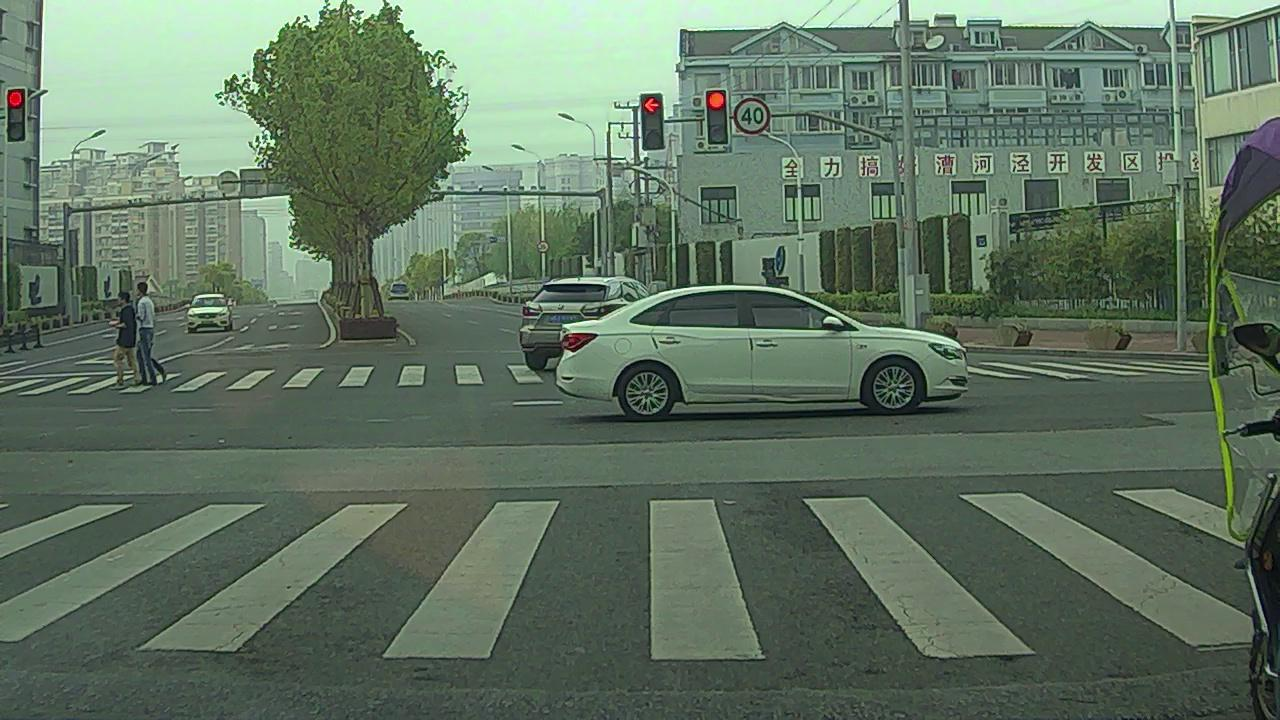traffic_light: (639, 93, 664, 150), (707, 87, 730, 146), (5, 86, 25, 139)
